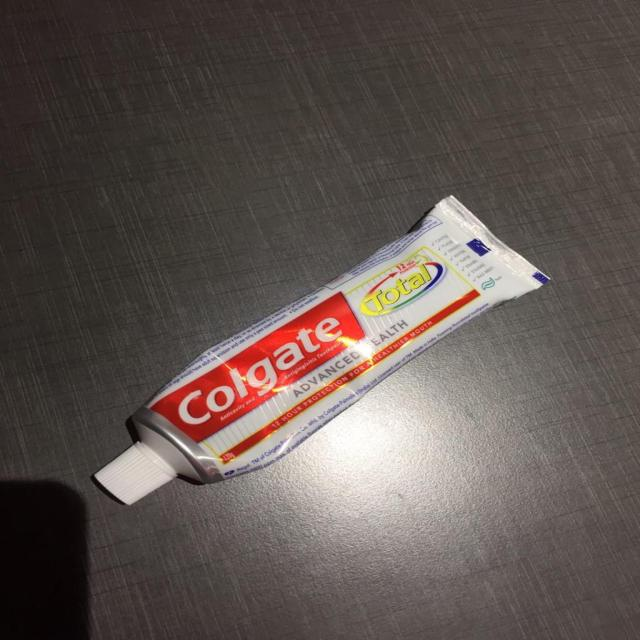Toothpaste: (86, 192, 583, 512)
